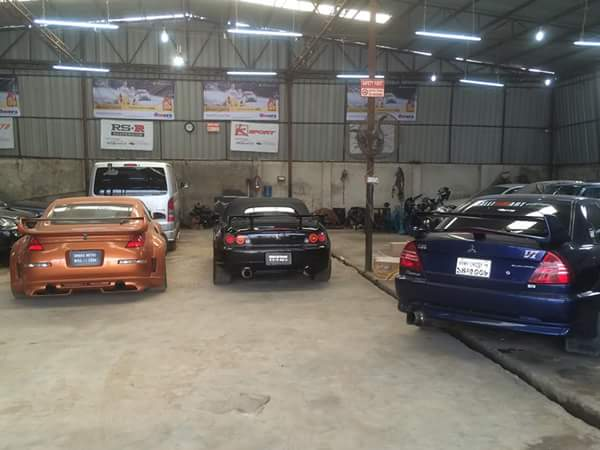registration_plate: (454, 255, 492, 279), (68, 250, 102, 267), (264, 252, 292, 266)
